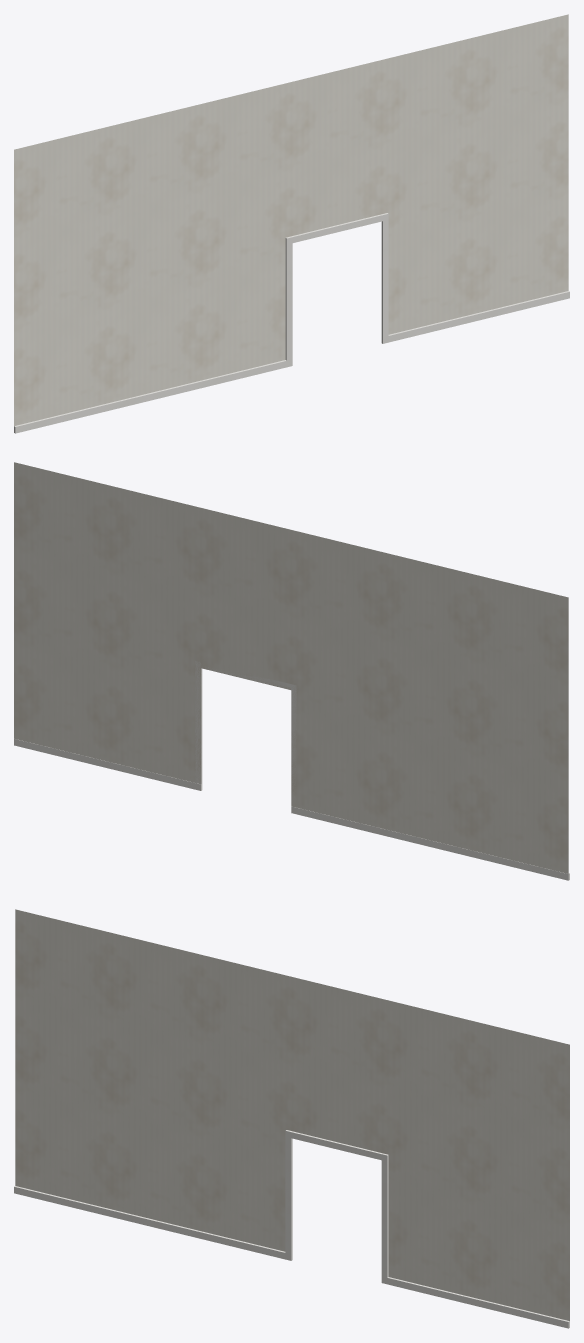
3 renders of one model, top to bottom at view 1: azimuth 30°, elevation 25°; view 2: azimuth 150°, elevation 25°; view 3: azimuth 330°, elevation 25°, orthographic.
Visible parts, largest first — view 1: jx_wm_12_1d5421cd; view 2: jx_wm_12_1d5421cd; view 3: jx_wm_12_1d5421cd.
Part boxes in pixels (bbox=[...]): jx_wm_12_1d5421cd: bbox=[14, 14, 569, 433]; jx_wm_12_1d5421cd: bbox=[14, 462, 569, 880]; jx_wm_12_1d5421cd: bbox=[14, 909, 569, 1328].
Size of the model in its own units: 12.3 by 6 by 0.05.
2 materials, 2 textured.
